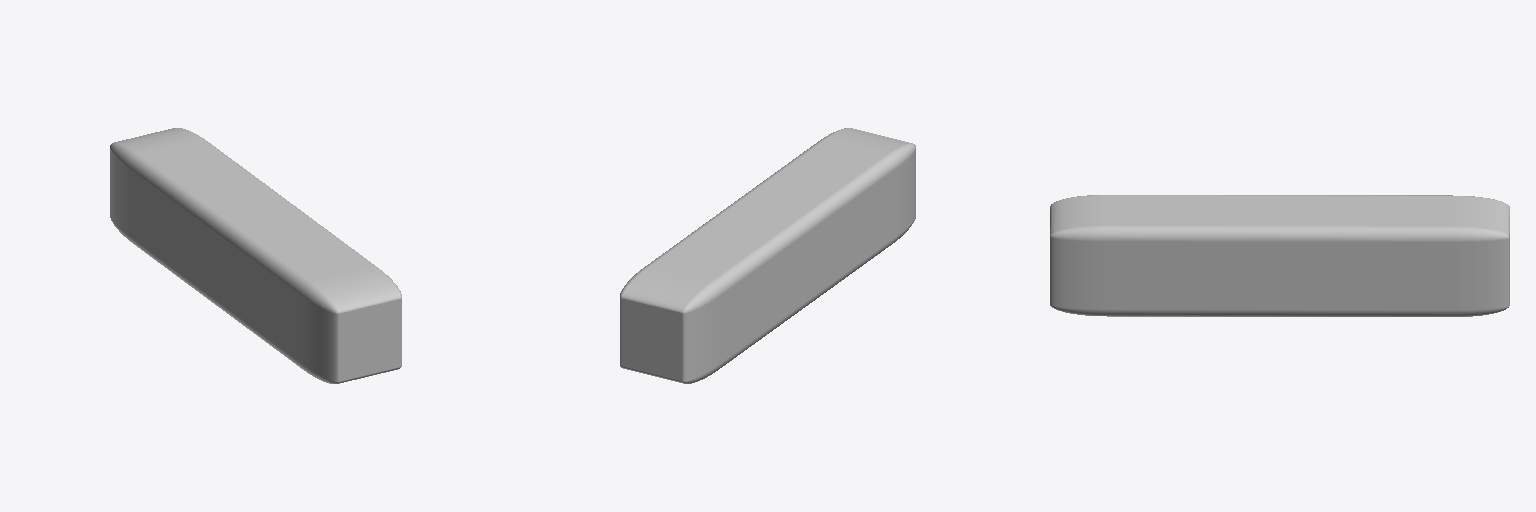
Rendered from hand.obj.
3 renders of one model, left to right at view 1: azimuth 30°, elevation 25°; view 2: azimuth 150°, elevation 25°; view 3: azimuth 270°, elevation 25°, orthographic.
Visible parts, largest first — view 1: hand_Cube.013; view 2: hand_Cube.013; view 3: hand_Cube.013.
Part boxes in pixels (x1,y1,x2,y2): hand_Cube.013: (110, 128, 401, 383); hand_Cube.013: (620, 128, 915, 383); hand_Cube.013: (1050, 195, 1509, 316).
Bounding box in the file's own units: 0.1028 × 0.1067 × 0.4942.